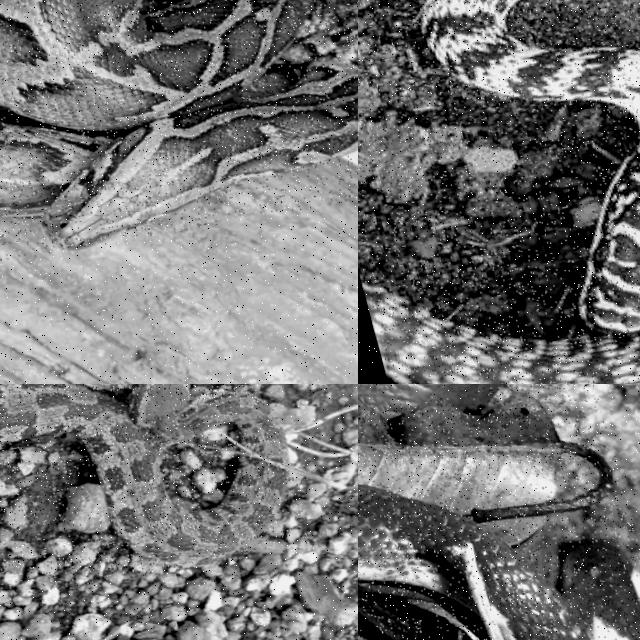Bungarus candidus: (358, 484, 639, 639)
Chrysopelea ornata: (367, 0, 639, 383)
Ovophis monticola: (0, 384, 286, 567)
Python bivittatus: (0, 0, 357, 248)
